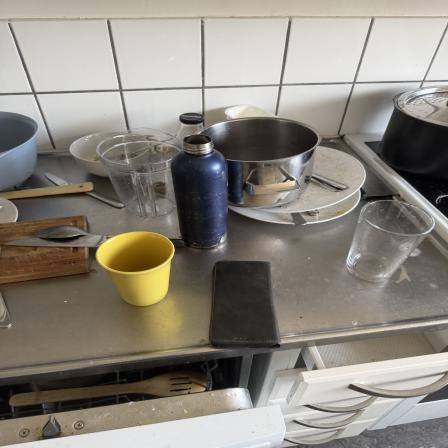blue_bottle: (172, 136, 232, 249)
phone: (211, 256, 280, 350)
yellow_cup: (97, 232, 178, 308)
